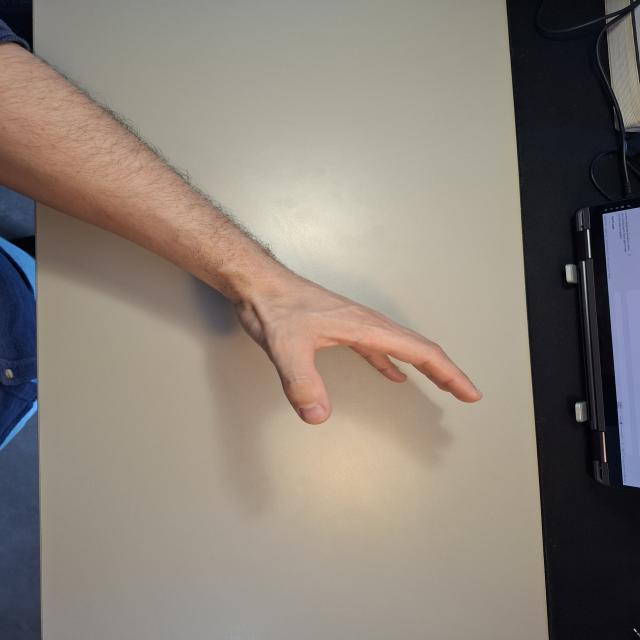glove_off: (222, 266, 487, 426)
